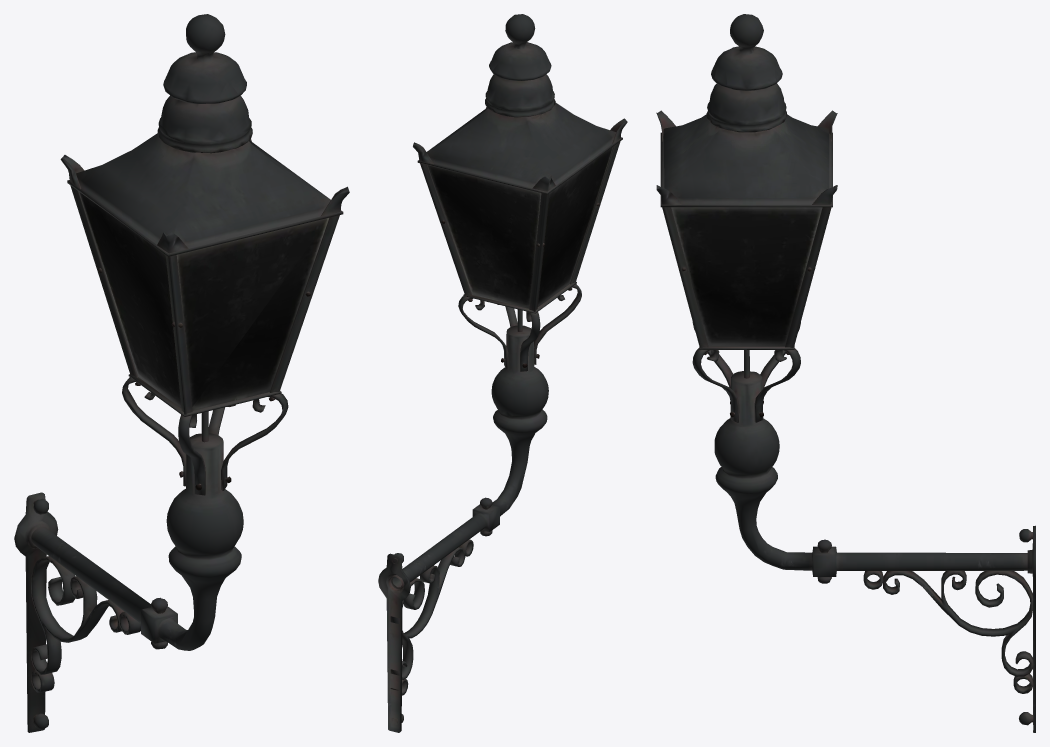
File: street_lamp_02.glb
3 renders of one model, left to right at view 1: azimuth 30°, elevation 25°; view 2: azimuth 150°, elevation 25°; view 3: azimuth 270°, elevation 25°, orthographic. The views are drawn at different scales.
Visible parts, largest first — view 1: street_lamp_02; view 2: street_lamp_02; view 3: street_lamp_02.
Boxes of the visible parts, <box> form: street_lamp_02: <box>14,14,349,732</box>; street_lamp_02: <box>378,14,627,732</box>; street_lamp_02: <box>656,14,1035,732</box>.
Size of the model in its own units: 0.3848 by 1.67 by 0.8061.
Materials: 2 (2 with a texture image).
